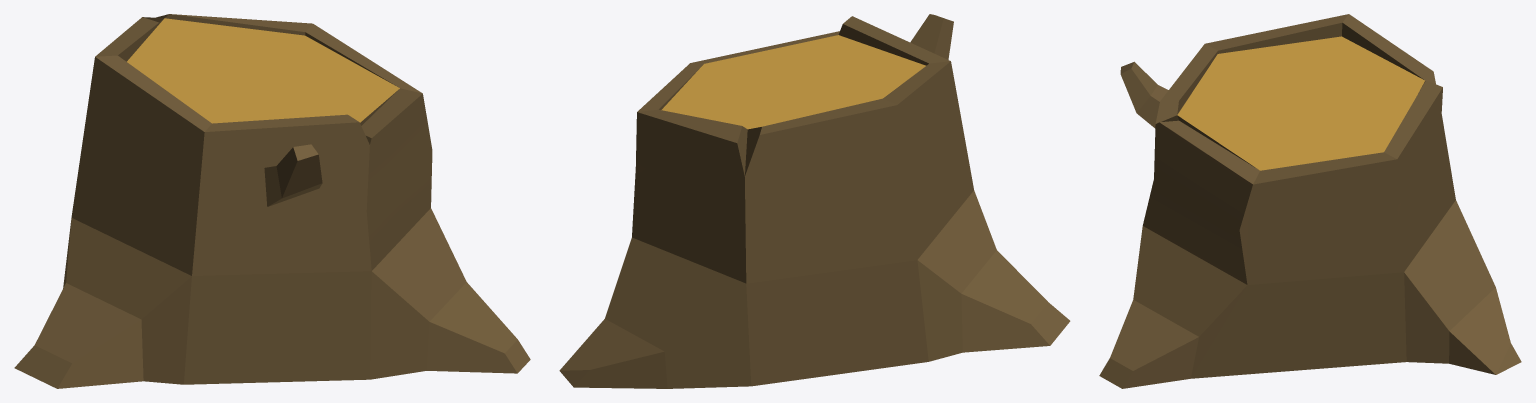
The model's file is stump5.fbx.
3 views of the same model, side by side, from view 1: azimuth 30°, elevation 25°; view 2: azimuth 150°, elevation 25°; view 3: azimuth 270°, elevation 25° (orthographic). The views are drawn at different scales.
Visible parts, largest first — view 1: stump; view 2: stump; view 3: stump.
Part boxes in pixels (bbox=[...]): stump: bbox=[14, 14, 530, 388]; stump: bbox=[559, 14, 1070, 388]; stump: bbox=[1099, 14, 1521, 388].
Size of the model in its own units: 23.63 by 15 by 23.32.
